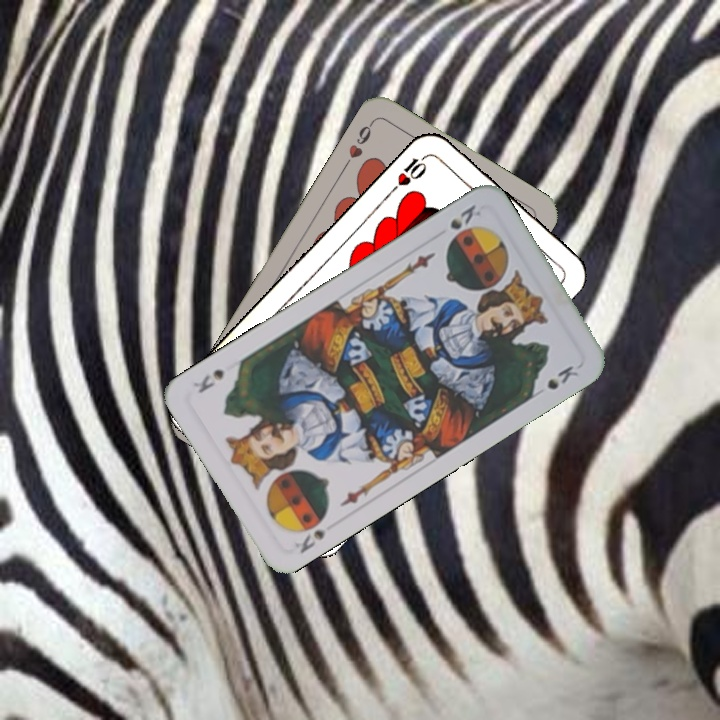H10: (386, 150, 432, 196)
H9: (340, 117, 377, 170)
SK: (445, 200, 484, 243), (290, 525, 329, 556)
